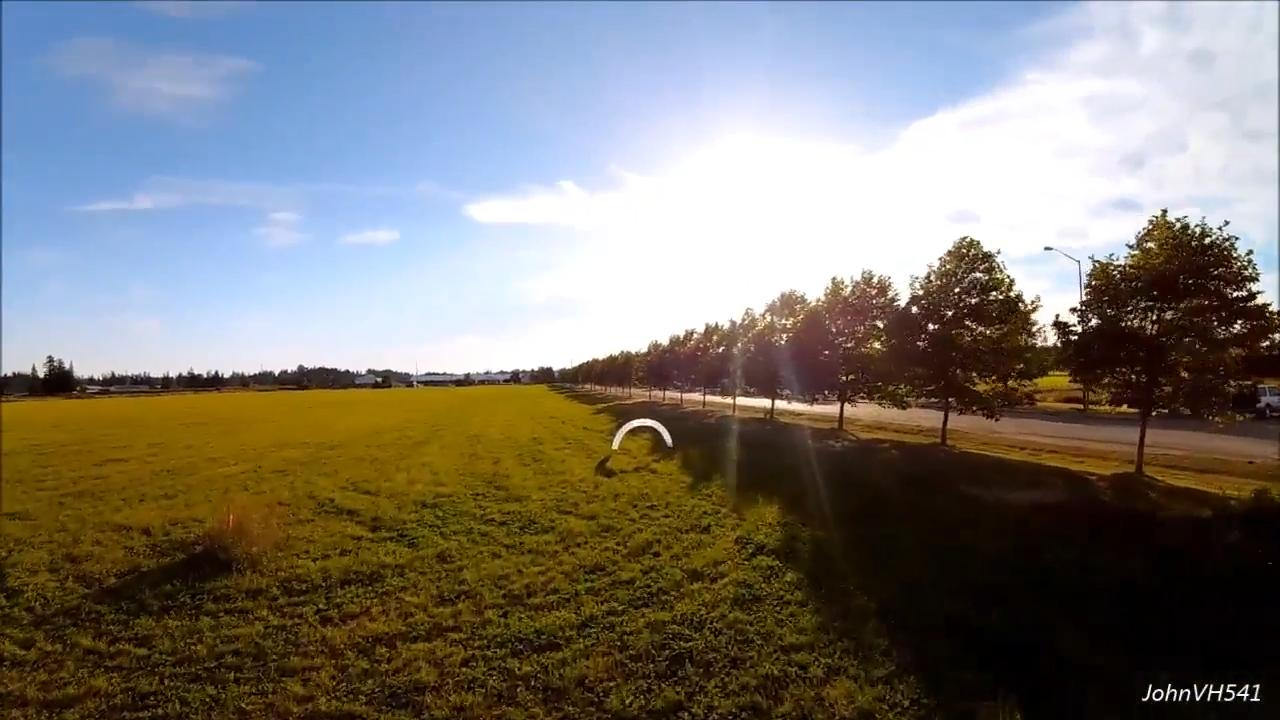gate: (610, 417, 674, 452)
